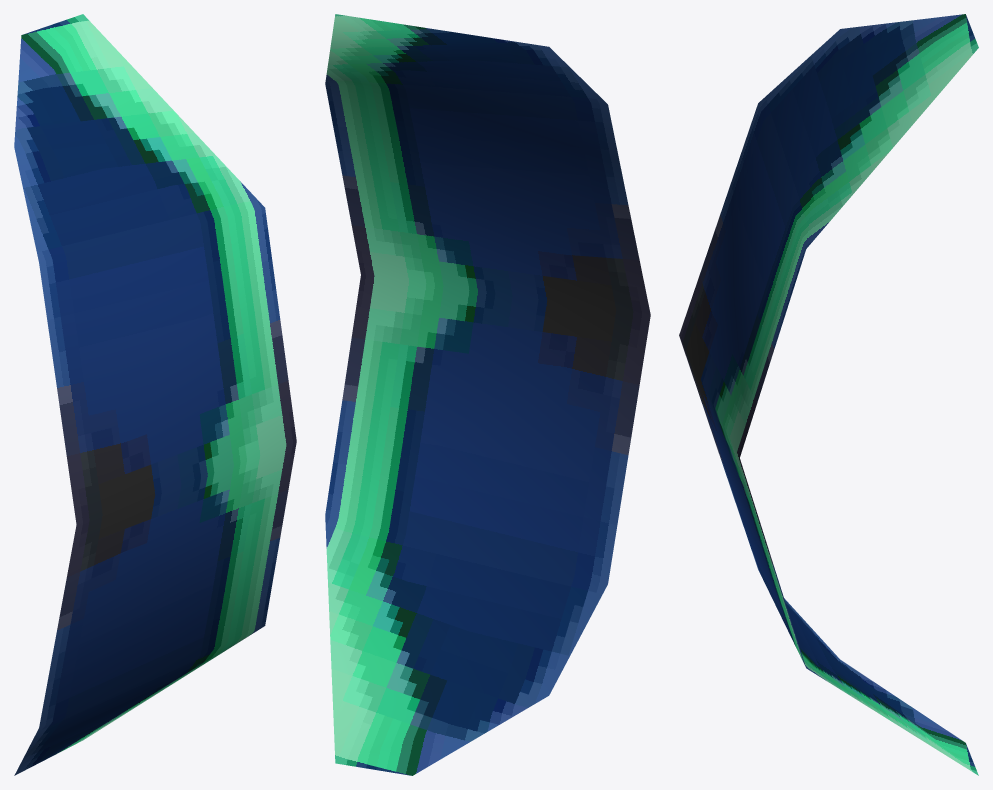
Rendered from acc_shade_sporty.dae.
The picture shows the model from 3 angles, left to right: view 1: azimuth 30°, elevation 25°; view 2: azimuth 150°, elevation 25°; view 3: azimuth 270°, elevation 25°; orthographic projection. The views are drawn at different scales.
Visible parts, largest first — view 1: acc_shade_sporty; view 2: acc_shade_sporty; view 3: acc_shade_sporty.
Part boxes in pixels (<box>): acc_shade_sporty: <box>14,14,296,775</box>; acc_shade_sporty: <box>325,14,650,775</box>; acc_shade_sporty: <box>679,14,978,775</box>.
Bounding box in the file's own units: 7.17 × 19.76 × 7.37.
Materials: 1 (1 with a texture image).
